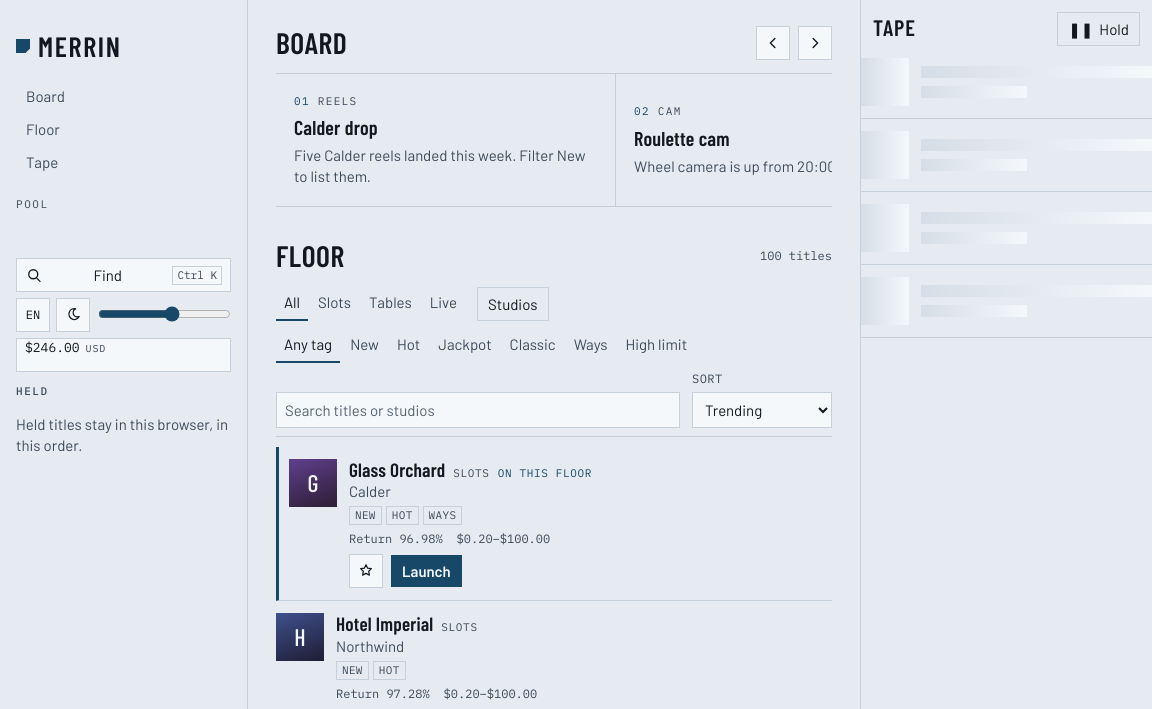
Test: lobby › pays a closed spin once and keeps the floor out of the dialog
Expected: the text "100 titles" is shown, [760,248,832,264]
Click the button "Launch". click: click(426, 571)
box: [391,555,462,587]
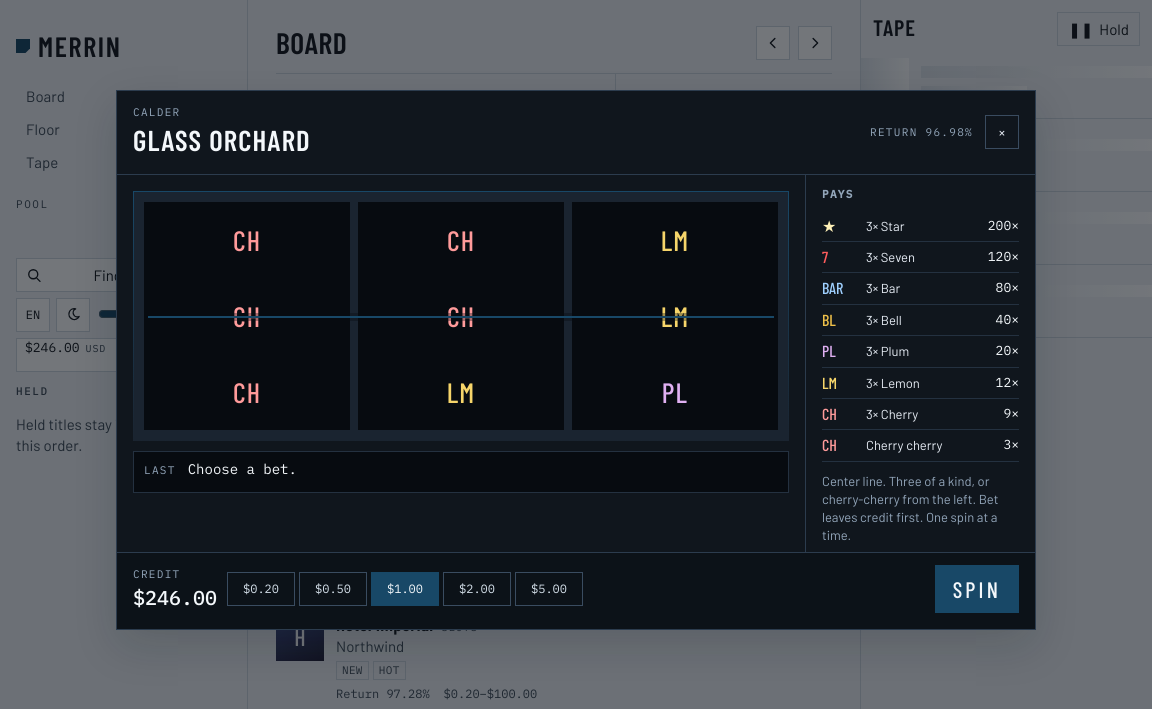
Click the button "Spin". click: click(977, 590)
box: [935,566,1019,614]
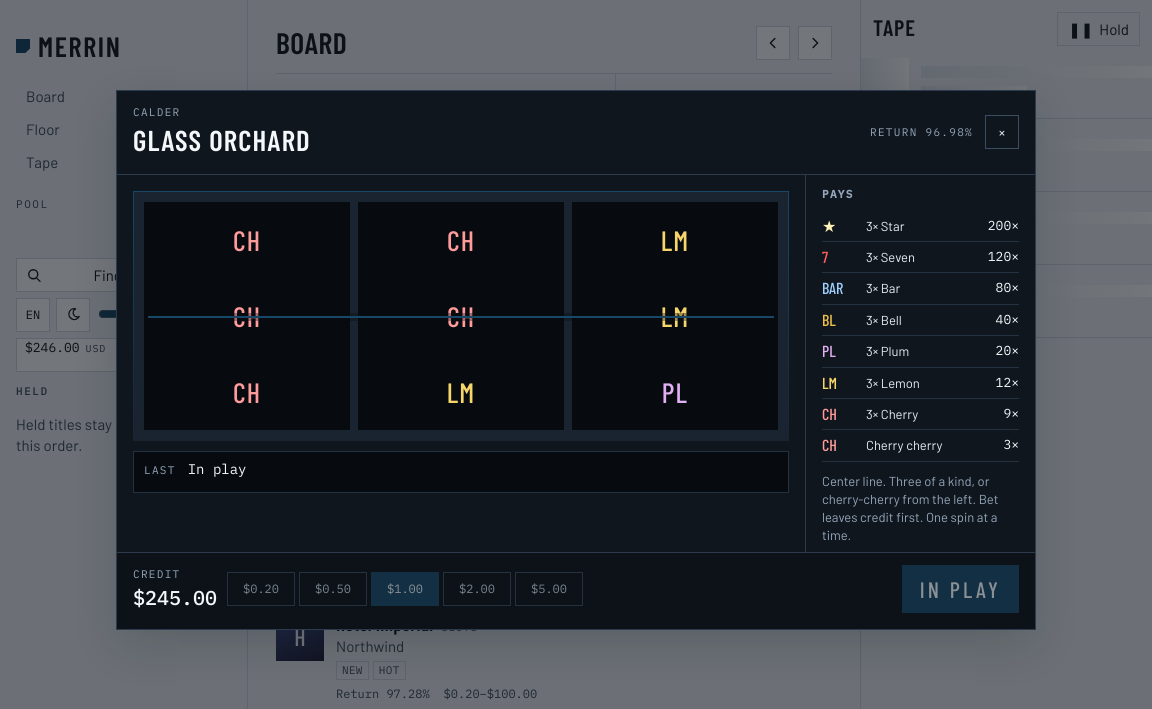
Press Escape
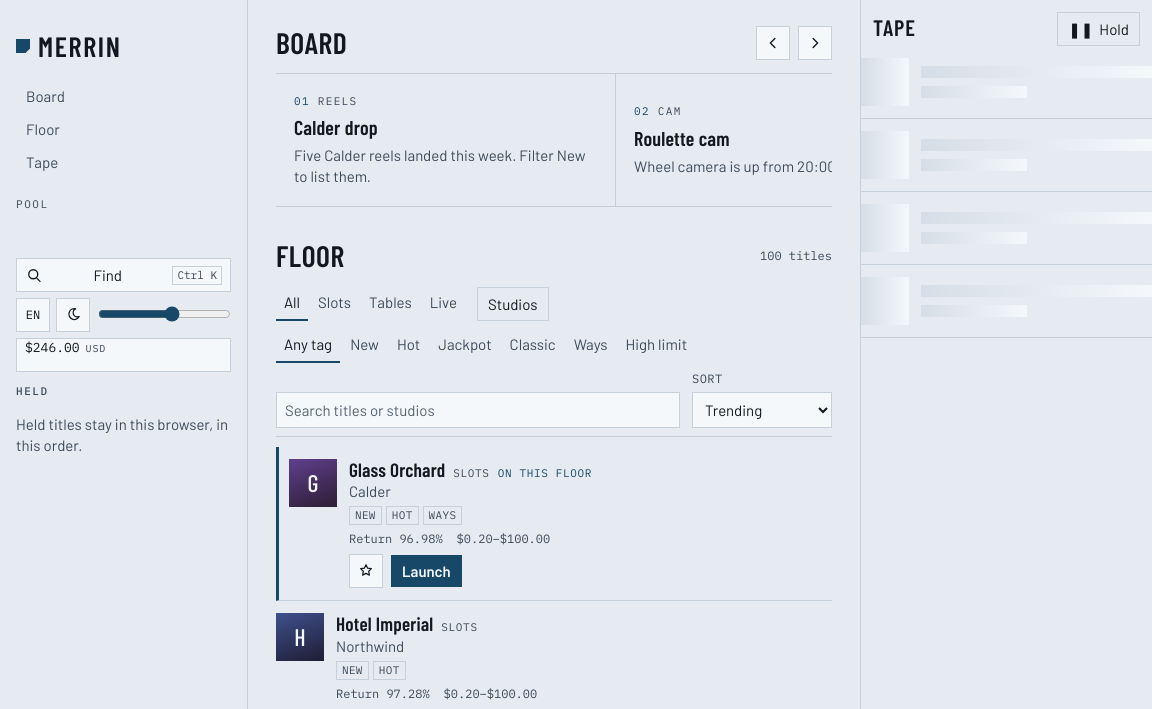
Click the button named "Credit". click: click(124, 355)
box: [16,338,231,372]
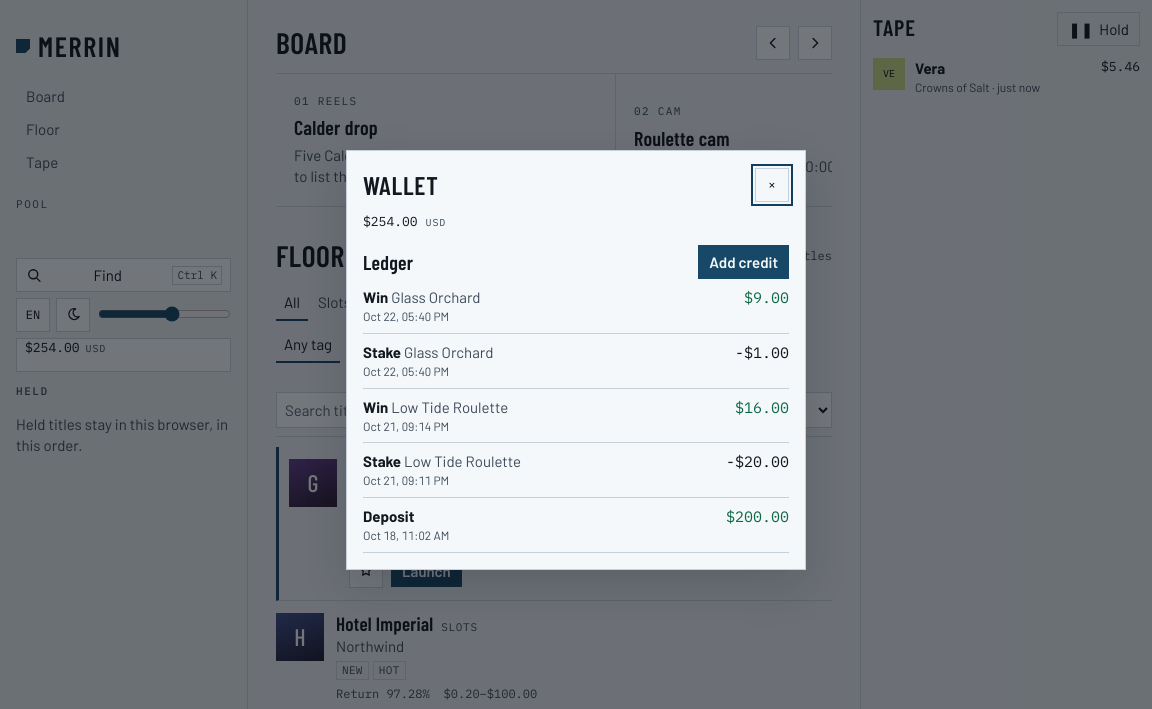
Expected: the text "Stake" is shown 2 times, [363,343,401,361]; [363,452,401,470]
Expected: the text "Win" is shown 2 times, [363,288,388,306]; [363,398,388,416]
Expected: the text "Glass Orchard" is shown 2 times, [388,288,481,306]; [401,343,493,361]
